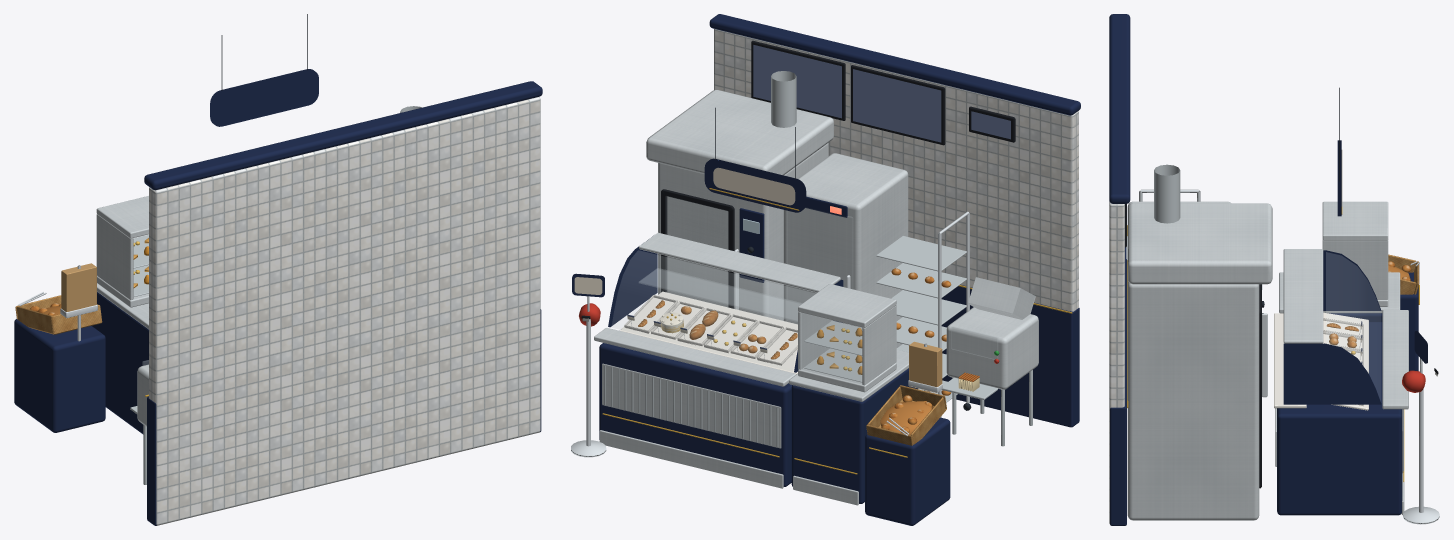
Rendered from sector-padaria_T2.fbx.
3 views of the same model, side by side, from view 1: azimuth 30°, elevation 25°; view 2: azimuth 150°, elevation 25°; view 3: azimuth 270°, elevation 25° (orthographic). The views are drawn at different scales.
Parts seen in each view (by area): view 1: Body; view 2: Body; view 3: Body.
Boxes of the visible parts, left/top/right/bottom form: Body: left=14, top=14, right=542, bottom=525; Body: left=571, top=14, right=1080, bottom=525; Body: left=1109, top=14, right=1439, bottom=525.
Size of the model in its own units: 3.29 by 2.89 by 2.51.
